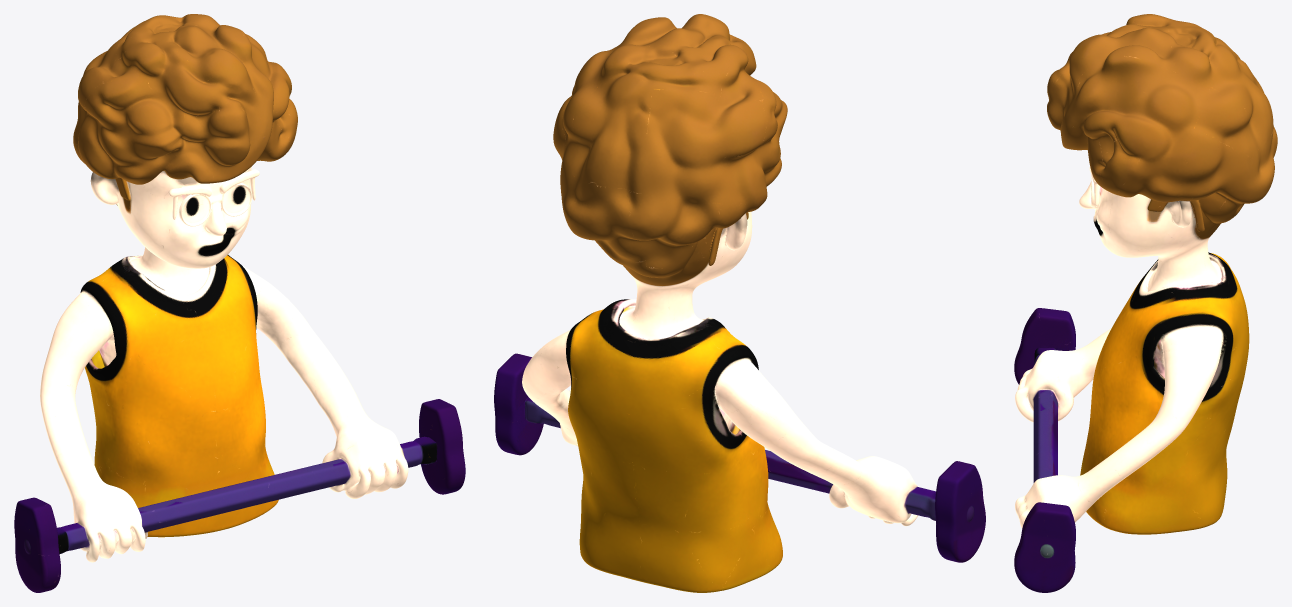
The model's file is Biosaludable.glb.
The picture shows the model from 3 angles, left to right: view 1: azimuth 30°, elevation 25°; view 2: azimuth 150°, elevation 25°; view 3: azimuth 270°, elevation 25°; orthographic projection. The views are drawn at different scales.
Visible parts, largest first — view 1: Mesh_0.002; view 2: Mesh_0.002; view 3: Mesh_0.002.
Part boxes in pixels (bbox=[...]): Mesh_0.002: bbox=[14, 14, 465, 592]; Mesh_0.002: bbox=[494, 14, 985, 592]; Mesh_0.002: bbox=[1014, 14, 1277, 592].
Size of the model in its own units: 2.8 by 3 by 1.52.
Materials: 1 (1 with a texture image).
